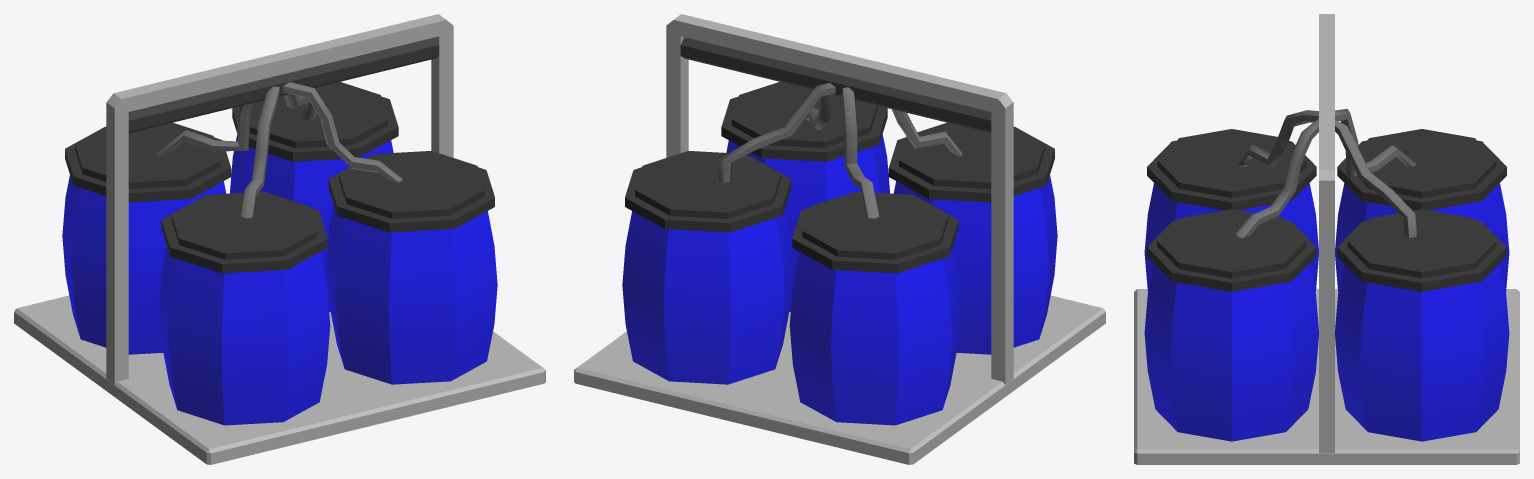
The model's file is Algentanks2.glb.
The picture shows the model from 3 angles, left to right: view 1: azimuth 30°, elevation 25°; view 2: azimuth 150°, elevation 25°; view 3: azimuth 270°, elevation 25°; orthographic projection.
Parts seen in each view (by area): view 1: barrel4, barrel3, ground, barrel1, frame, barrel2, pipe, sweep1, sweep2, sweep3; view 2: barrel1, barrel2, ground, barrel4, frame, barrel3, pipe, sweep3, sweep4, sweep2, sweep1; view 3: barrel2, barrel3, ground, barrel4, barrel1, frame, sweep1, sweep4, sweep2, sweep3.
Part boxes in pixels (box(x1,y1,x2,y2)): barrel4: box(159, 191, 330, 425); barrel3: box(326, 151, 497, 384); ground: box(14, 295, 545, 464); barrel1: box(62, 122, 231, 354); frame: box(106, 14, 453, 384); barrel2: box(230, 82, 398, 311); pipe: box(128, 37, 439, 133); sweep1: box(282, 82, 402, 183); sweep2: box(241, 86, 279, 218); sweep3: box(156, 103, 253, 156); barrel1: box(789, 191, 960, 425); barrel2: box(622, 151, 793, 384); ground: box(574, 295, 1105, 464); barrel4: box(888, 122, 1057, 354); frame: box(666, 14, 1013, 384); barrel3: box(721, 82, 889, 311); pipe: box(680, 37, 991, 133); sweep3: box(842, 87, 879, 218); sweep4: box(718, 83, 835, 182); sweep2: box(891, 109, 962, 156); sweep1: box(805, 94, 832, 130); barrel2: box(1335, 209, 1509, 441); barrel3: box(1144, 209, 1318, 441); ground: box(1134, 289, 1519, 464); barrel4: box(1144, 129, 1318, 292); barrel1: box(1335, 129, 1509, 292); frame: box(1319, 14, 1334, 453); sweep1: box(1235, 118, 1318, 238); sweep4: box(1335, 120, 1416, 237); sweep2: box(1238, 110, 1318, 166); sweep3: box(1335, 108, 1416, 177).
Bounding box in the file's own units: 0.2433 × 0.2028 × 0.2433.
